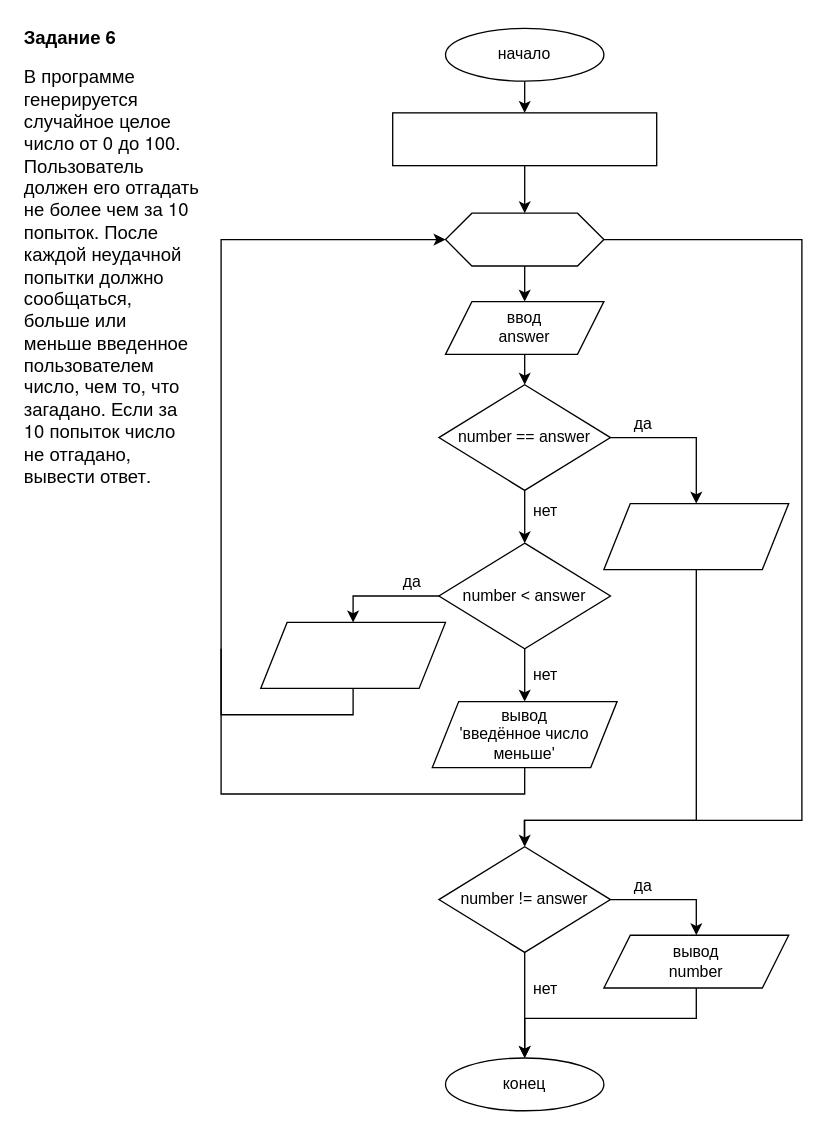
This 826x1134 diagram has some shape labels left out. Here are the shapes that lost their labels. From the top down, the box of each, then its label:
(391, 112, 657, 166): from random import randint number = randint(0, 100)
(444, 212, 604, 266): for i in range (1, 11)
(603, 502, 789, 570): вывод 'вы угадали!'
(259, 621, 446, 688): вывод 'введённое число больше'
